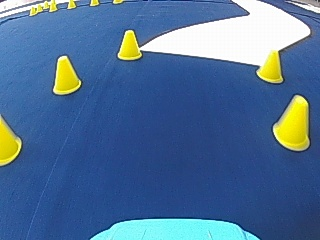cone: (272, 93, 310, 151), (52, 54, 81, 95), (0, 115, 22, 164), (256, 47, 285, 83), (117, 30, 142, 60), (49, 0, 57, 11)
